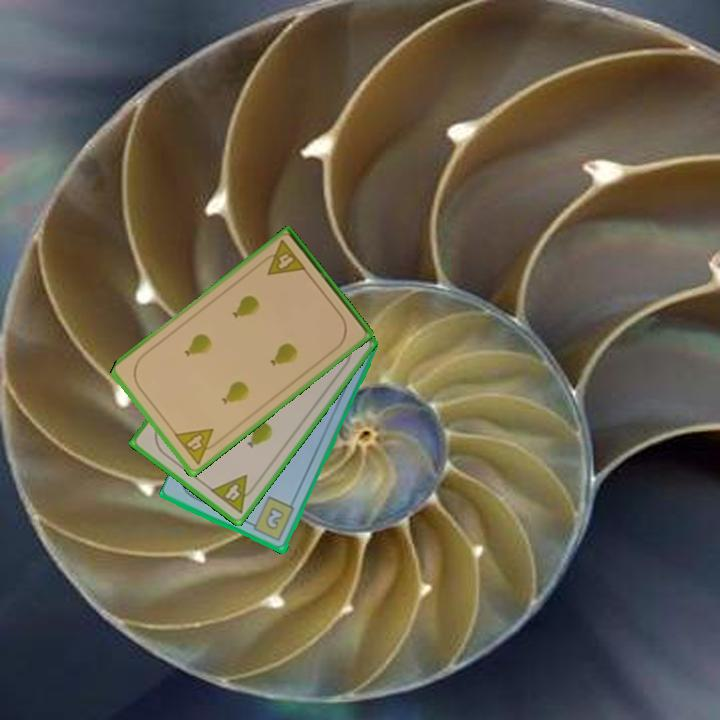2b: (245, 494, 297, 544)
4p: (207, 471, 261, 516), (171, 425, 224, 468), (256, 236, 309, 279)
